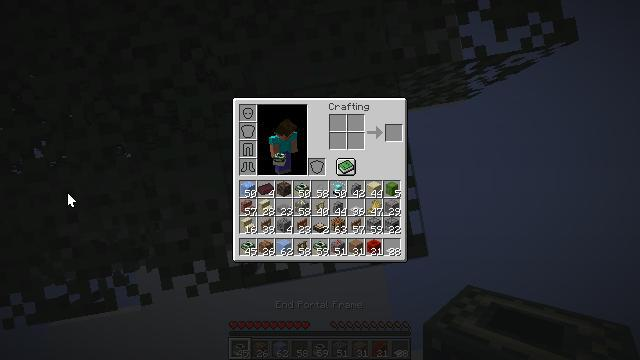cursor: (67, 192, 77, 208)
